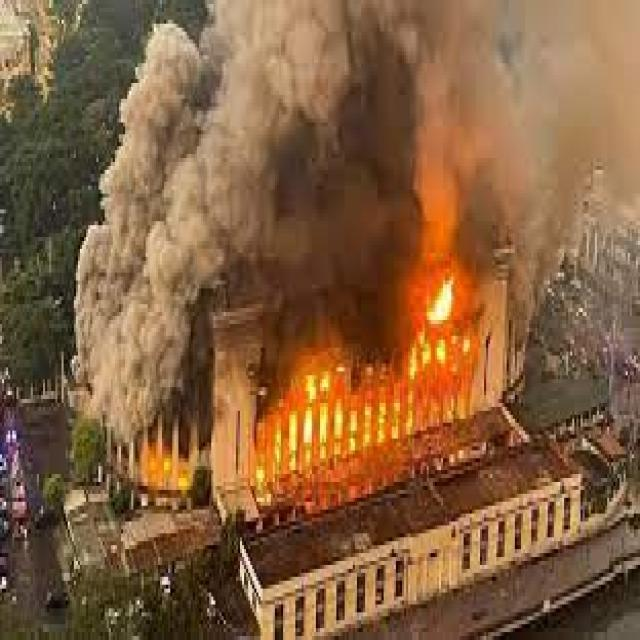Fire: (255, 286, 504, 466)
Smoke: (161, 13, 640, 290), (81, 180, 207, 412)
